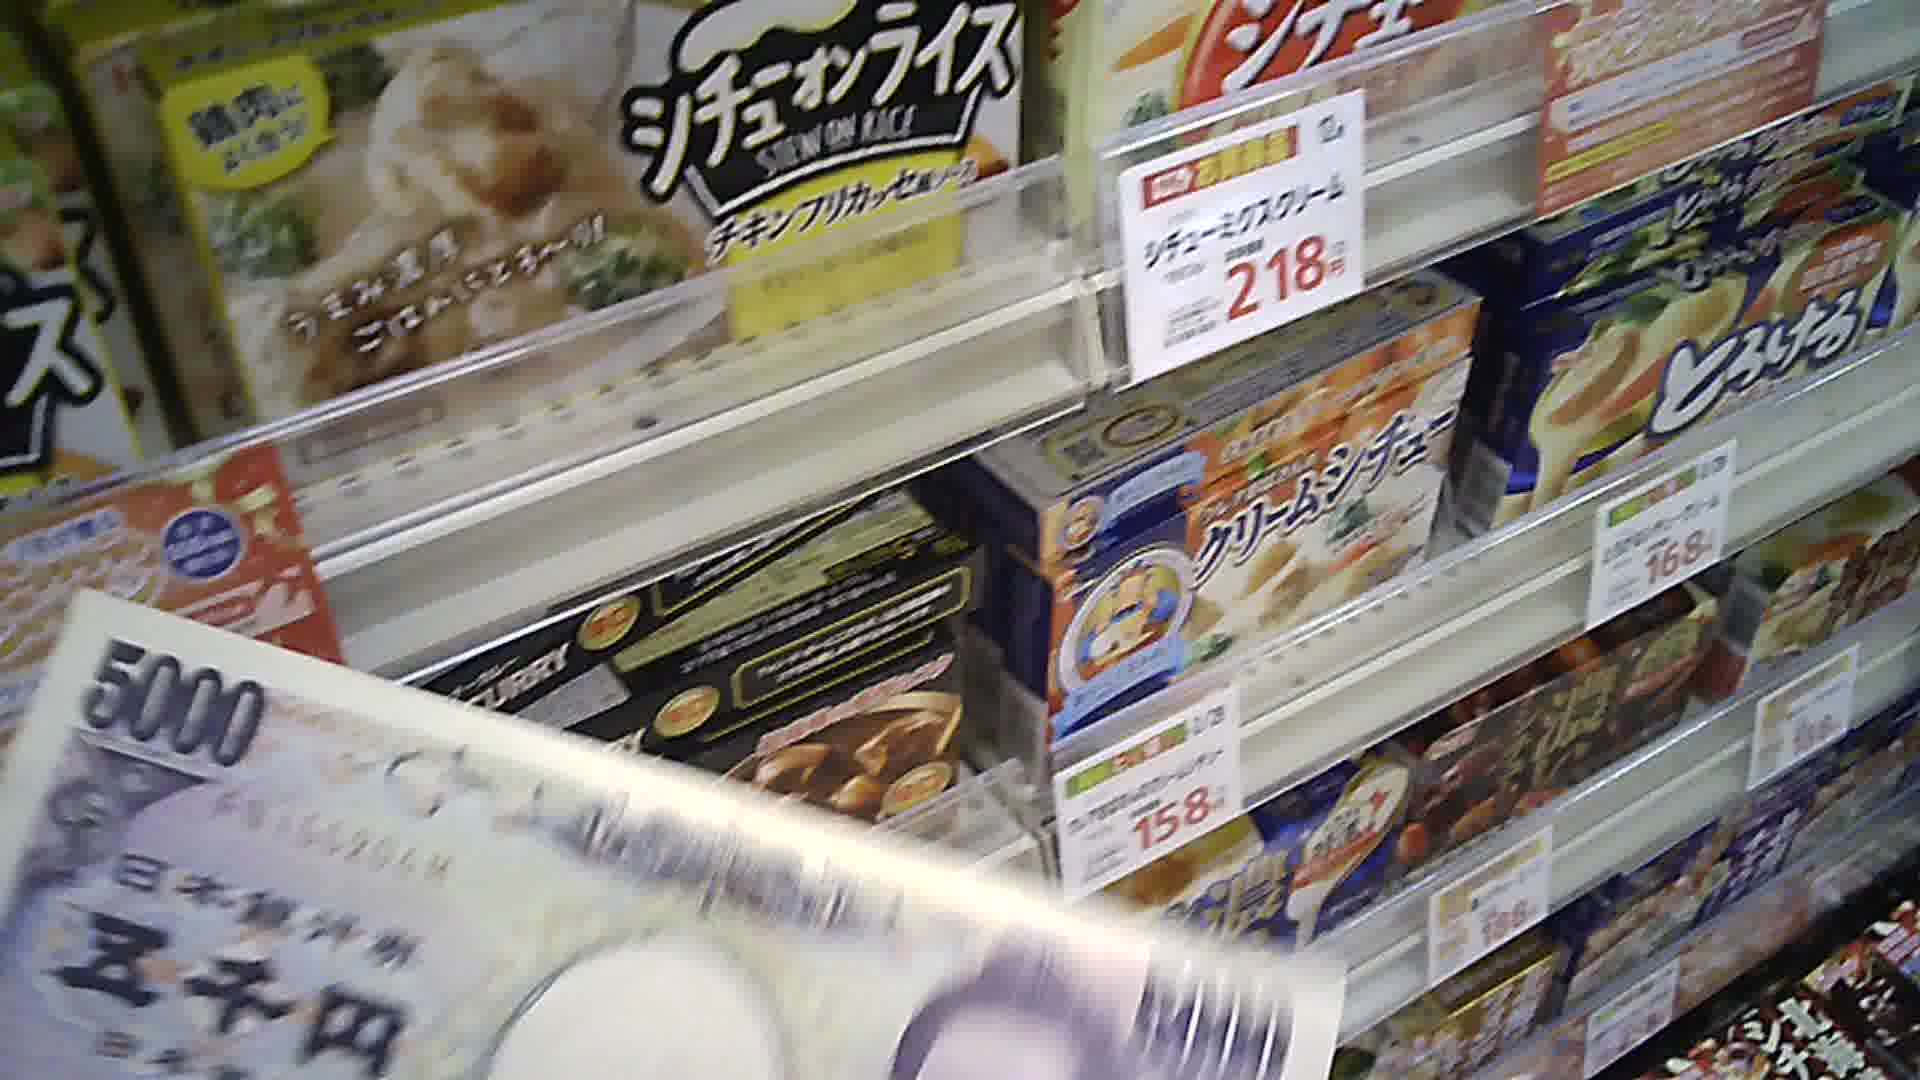5,000 Yen: (1, 568, 1240, 1079)
